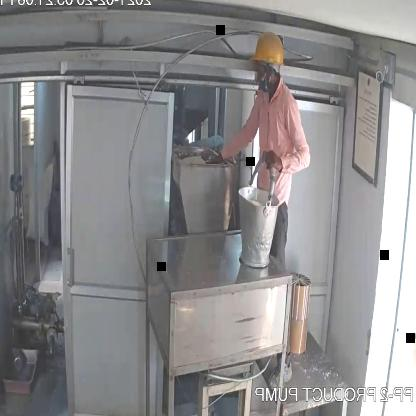helmet: (244, 29, 292, 74)
